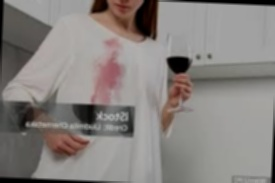wine: (87, 53, 124, 102), (101, 36, 124, 58)
